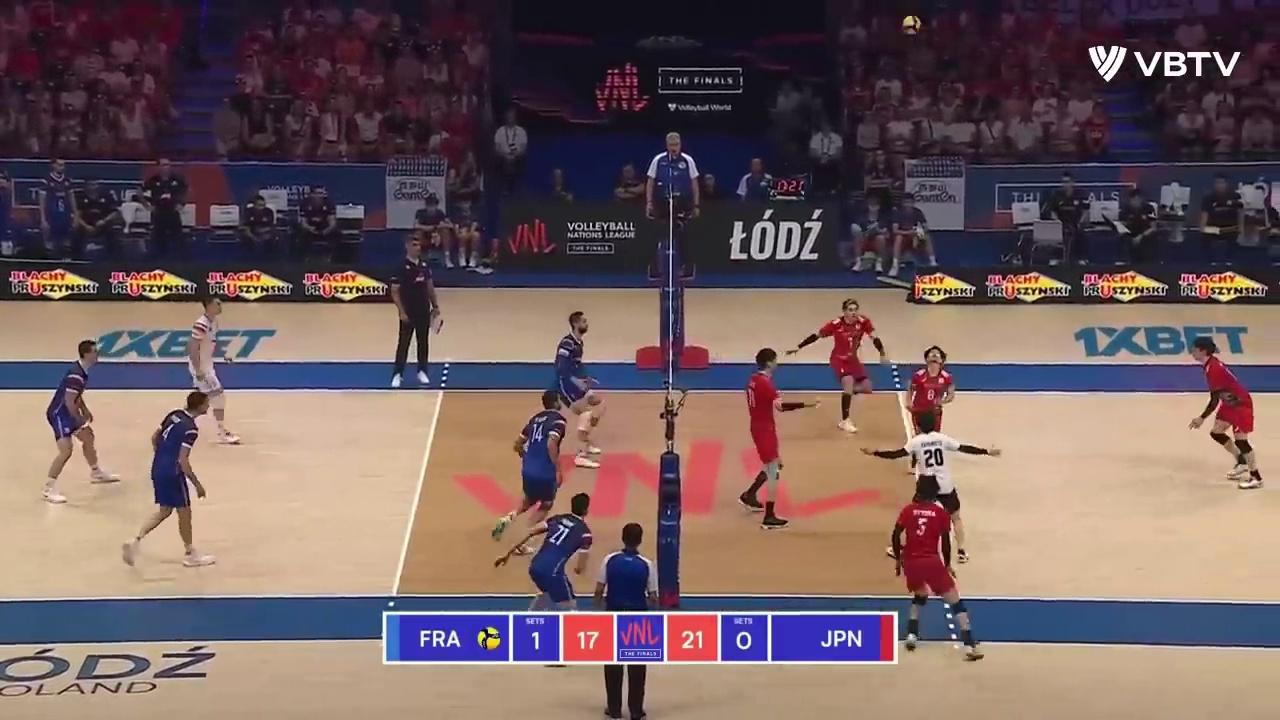ball: (901, 16, 922, 35)
